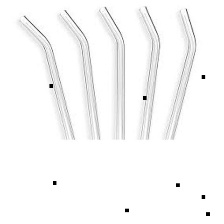drinking_straw: (11, 10, 81, 139), (52, 6, 105, 139), (160, 2, 203, 140), (93, 2, 132, 139), (132, 2, 163, 139)
